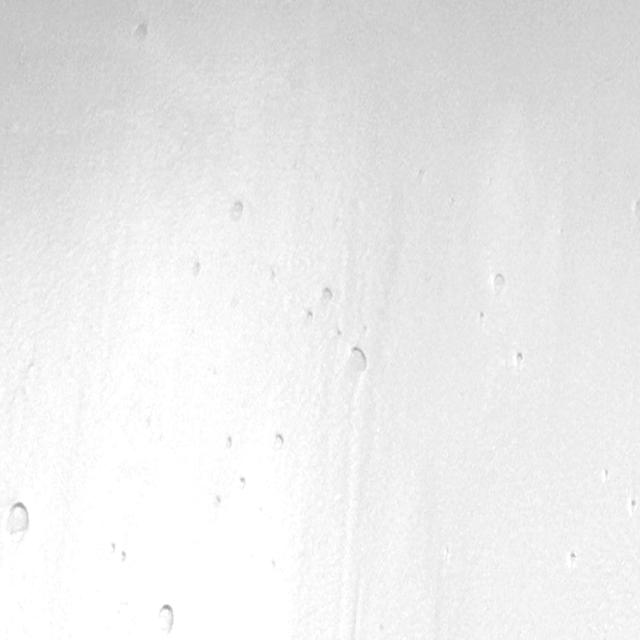pin holes: (0, 498, 36, 553), (151, 601, 178, 636), (344, 346, 368, 374), (226, 198, 248, 224), (132, 21, 153, 48), (487, 271, 508, 297), (410, 164, 430, 187), (316, 283, 335, 307), (185, 259, 204, 280), (564, 549, 579, 570), (232, 474, 248, 493), (629, 198, 640, 225), (270, 432, 285, 451), (511, 352, 525, 371), (220, 434, 234, 453), (626, 498, 638, 518), (301, 308, 315, 324), (105, 540, 119, 556), (212, 493, 224, 511), (600, 468, 612, 484), (475, 309, 485, 325), (331, 328, 343, 341), (120, 548, 128, 565)
